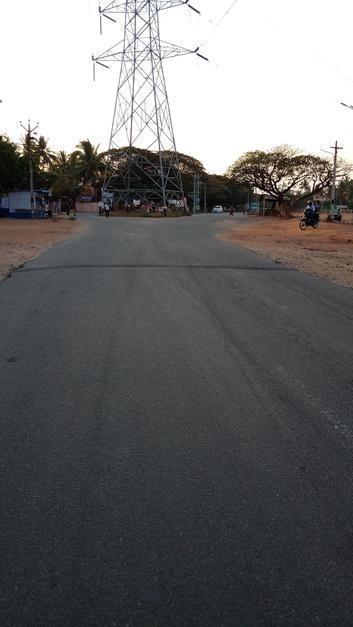speedbreaker: (12, 261, 308, 274)
